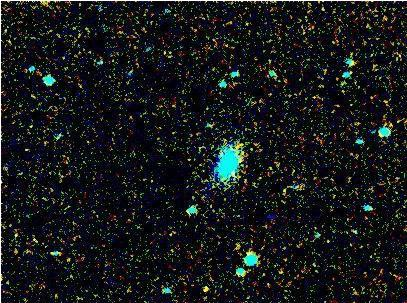star: (193, 275, 223, 303)
